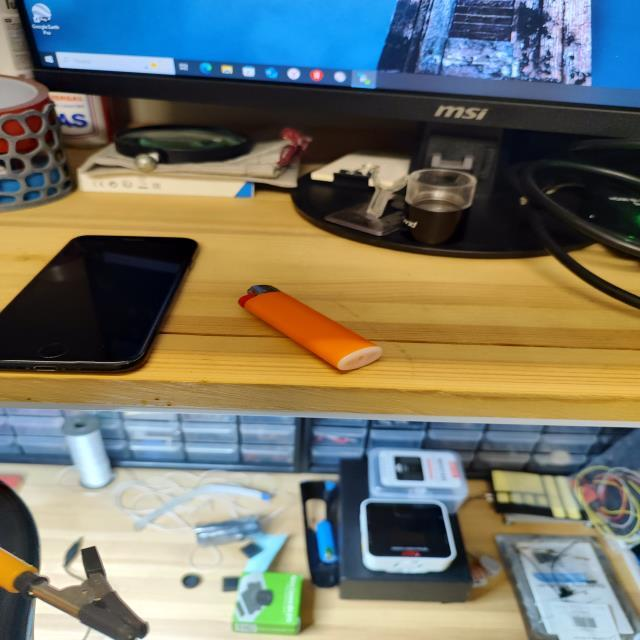lighter: (239, 285, 382, 372)
